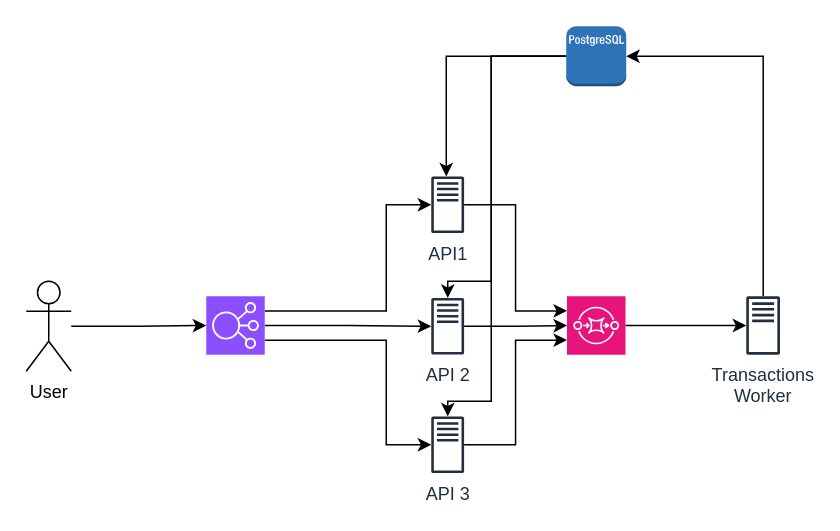
This 840x531 diagram has some shape labels left out. Each missing label, with the box of its shape:
Load Balancer: (205, 295, 265, 355)
RabbitMQ: (566, 295, 626, 355)
